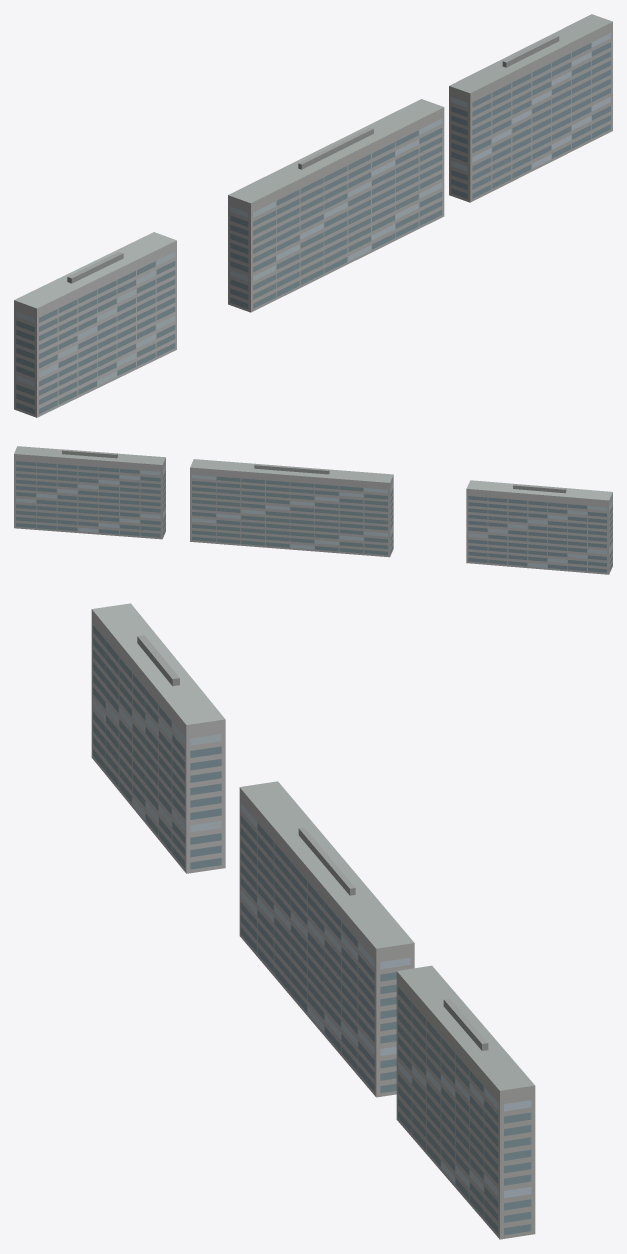
File: apt-a13776508.glb
The picture shows the model from 3 angles, top to bottom: view 1: azimuth 30°, elevation 25°; view 2: azimuth 150°, elevation 25°; view 3: azimuth 270°, elevation 25°; orthographic projection. The views are drawn at different scales.
Visible parts, largest first — view 1: apt-a13776508; view 2: apt-a13776508; view 3: apt-a13776508.
Boxes of the visible parts, x1,y1,x2,y2 form: apt-a13776508: (14,14,612,417); apt-a13776508: (14,446,612,574); apt-a13776508: (91,603,535,1239).
Size of the model in its own units: 228 by 34 by 87.75.
